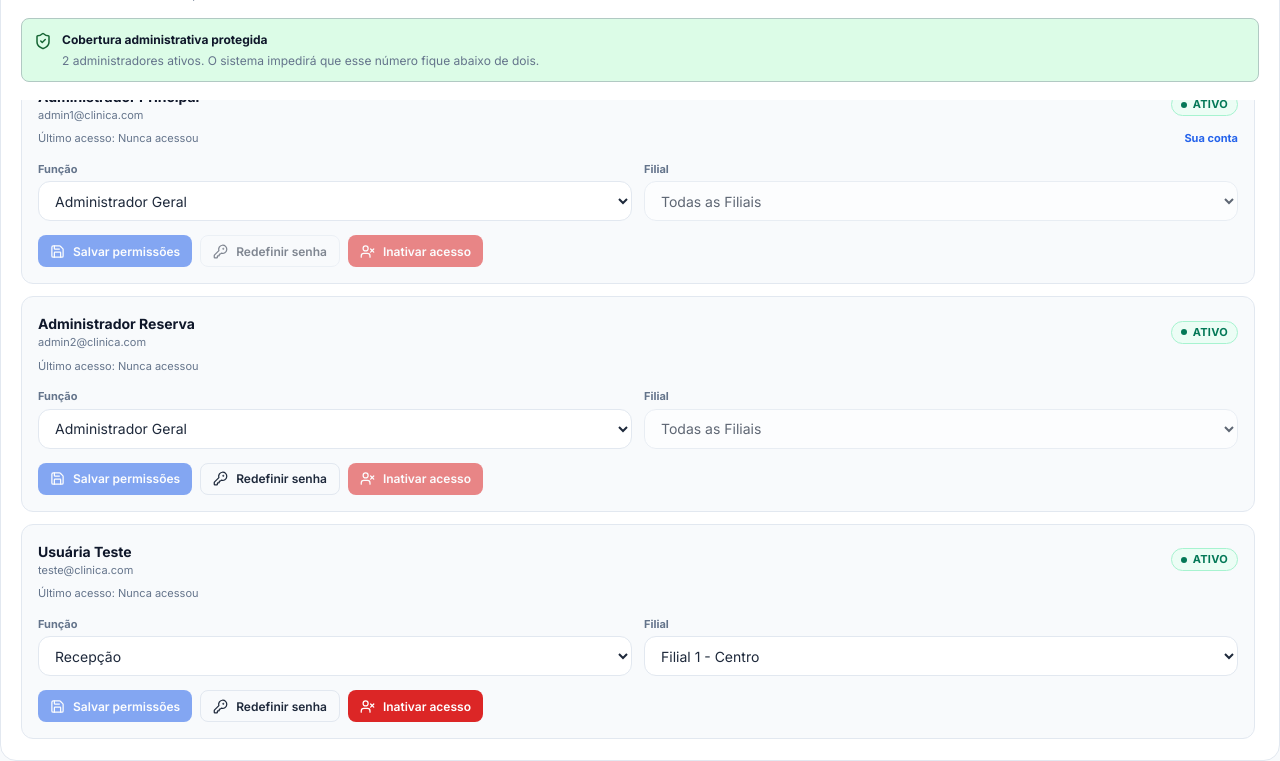
Test: TeamAccessManager › redefine a senha e marca a troca obrigatória para outro usuário
(page scrolled)
Expected: the text "Cobertura administrativa protegida" is shown, [62,32,268,46]
Expected: the text "Usuária Teste" is shown, [38,543,132,560]
Click the button "Redefinir senha" below "teste@clinica.com": coordinates (270, 706) [200,690,340,722]
(page scrolled)
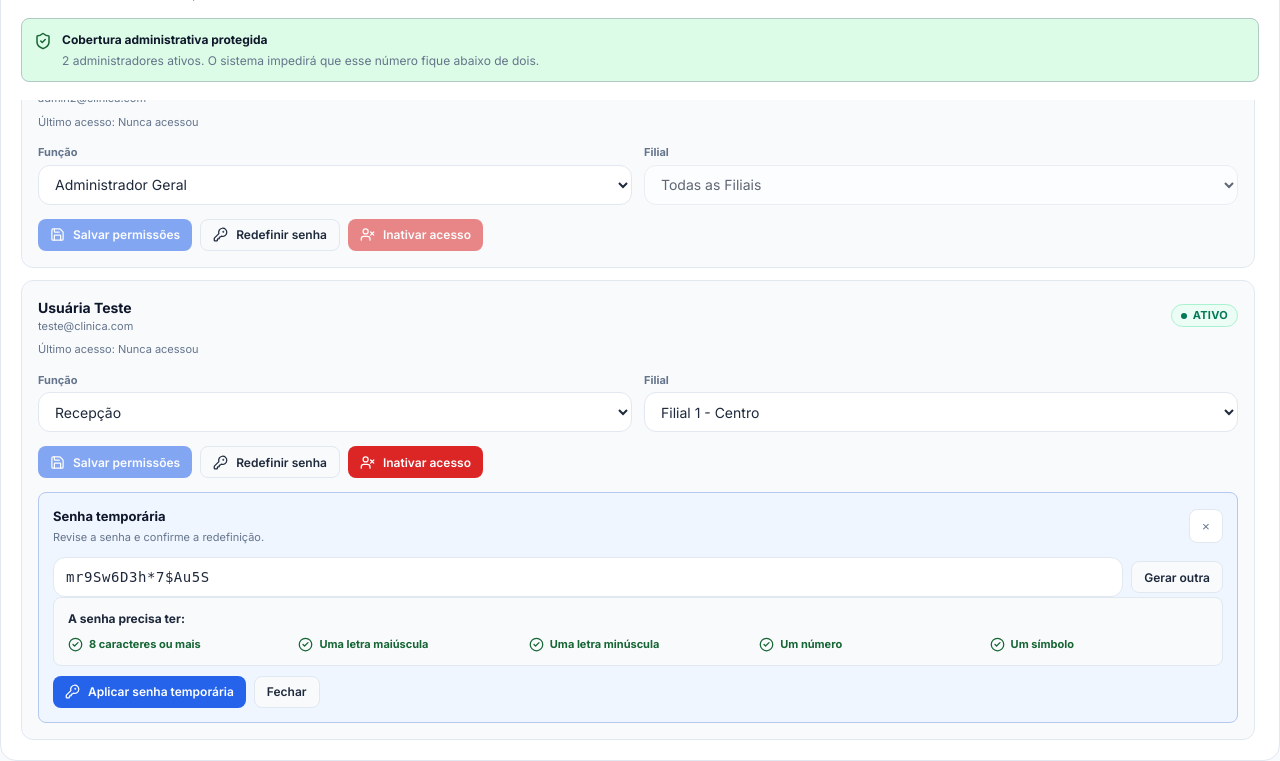
Click the button "Aplicar senha temporária": coordinates (149, 692) [53,676,246,708]
(page scrolled)
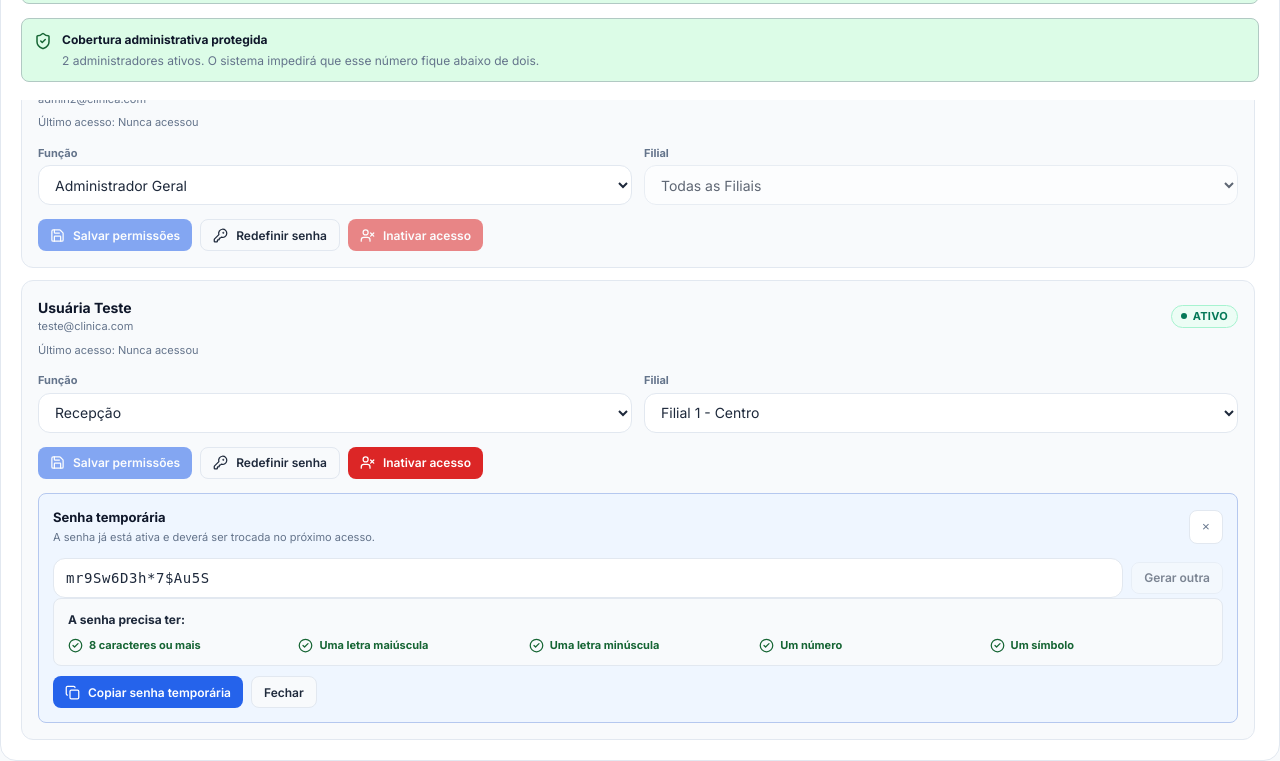
Expected: the button "Copiar senha temporária" is shown, [53,676,243,708]
